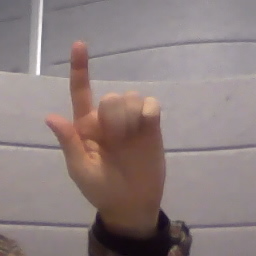F: (43, 35, 172, 206)
